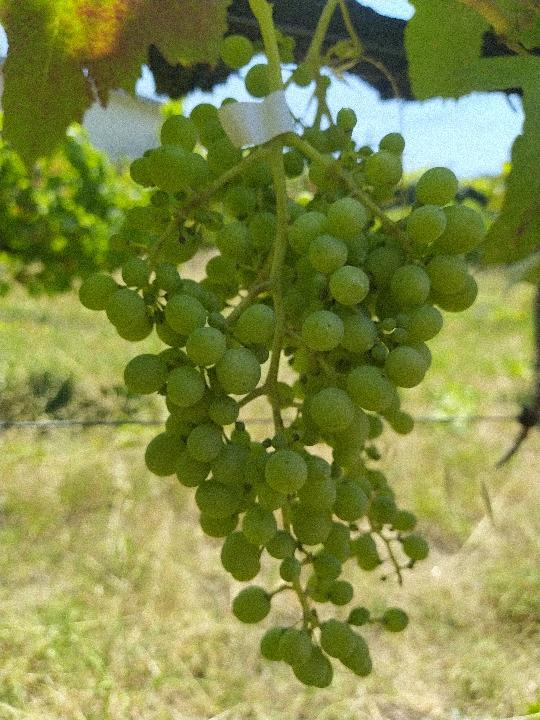grape: (69, 64, 484, 692)
